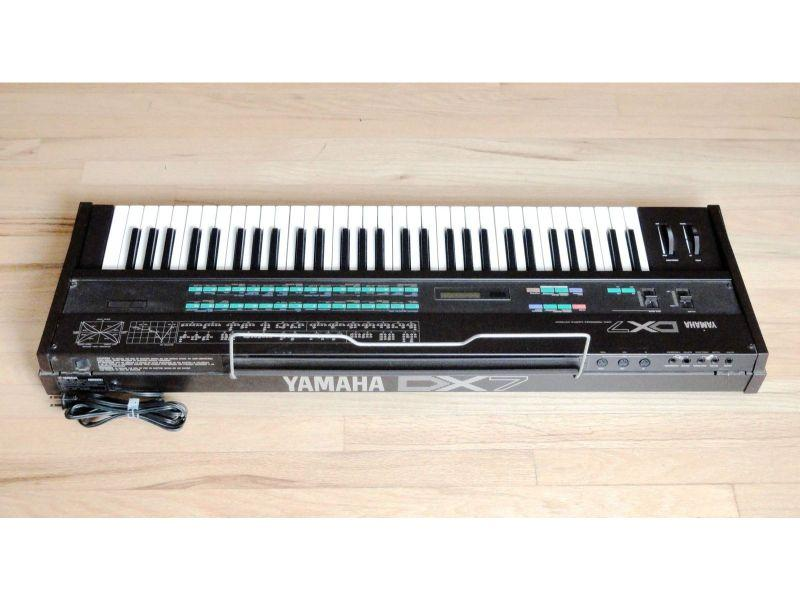synthesizer: (26, 200, 769, 408)
